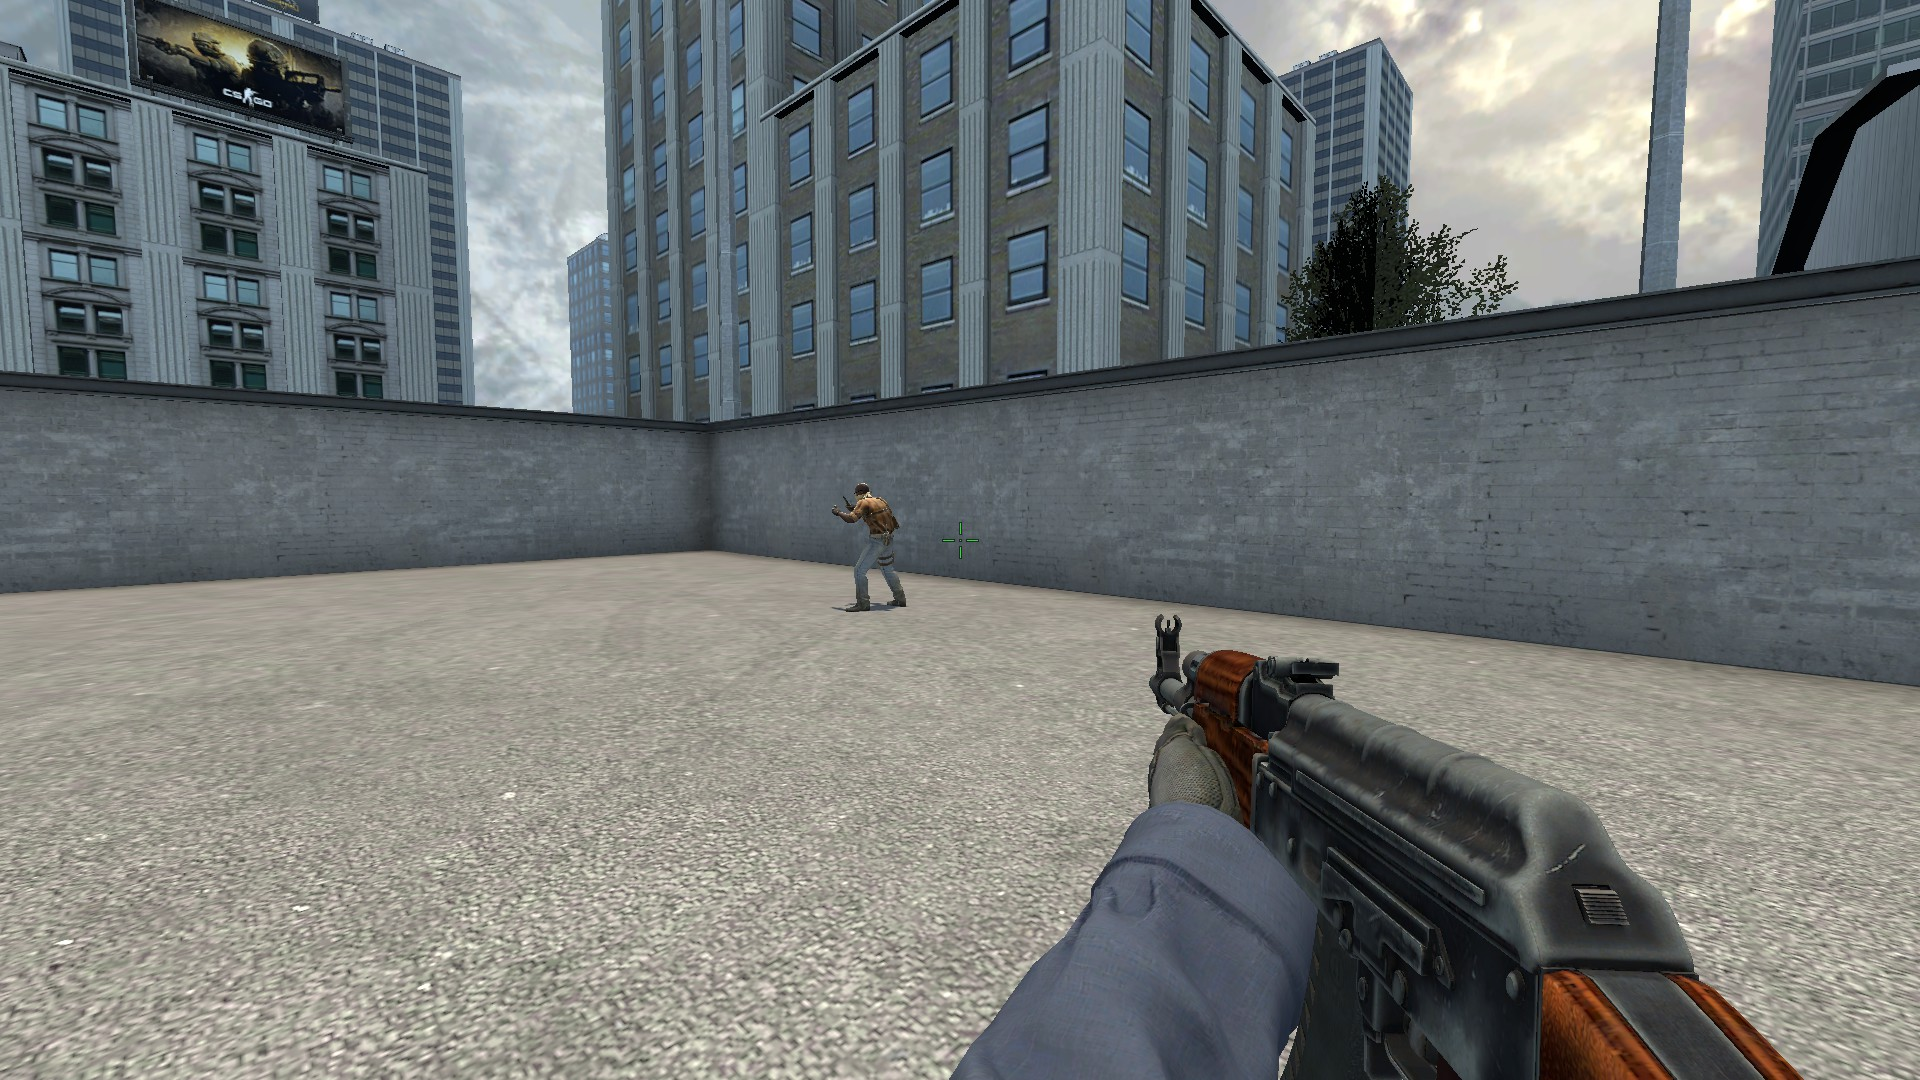tr: (825, 479, 915, 614)
tr head: (852, 477, 875, 504)
